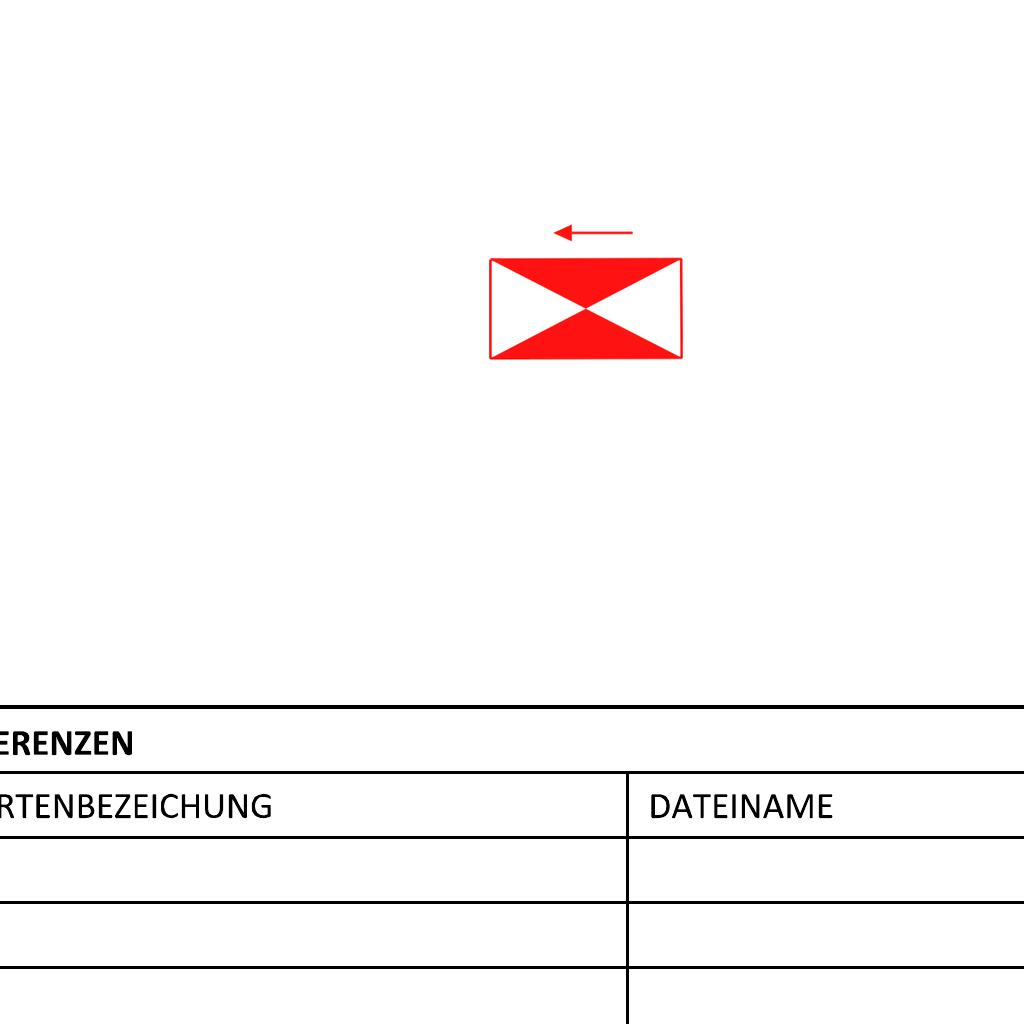Fluchtwegpiktogramm: (482, 219, 690, 366)
